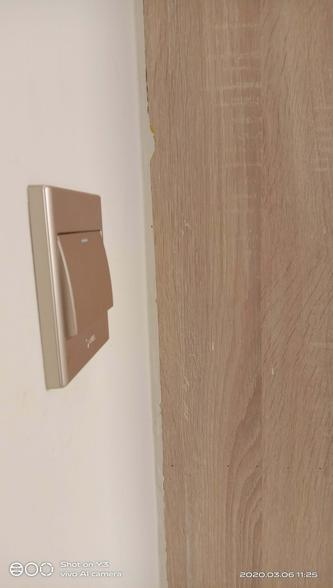switch: (45, 212, 122, 347)
